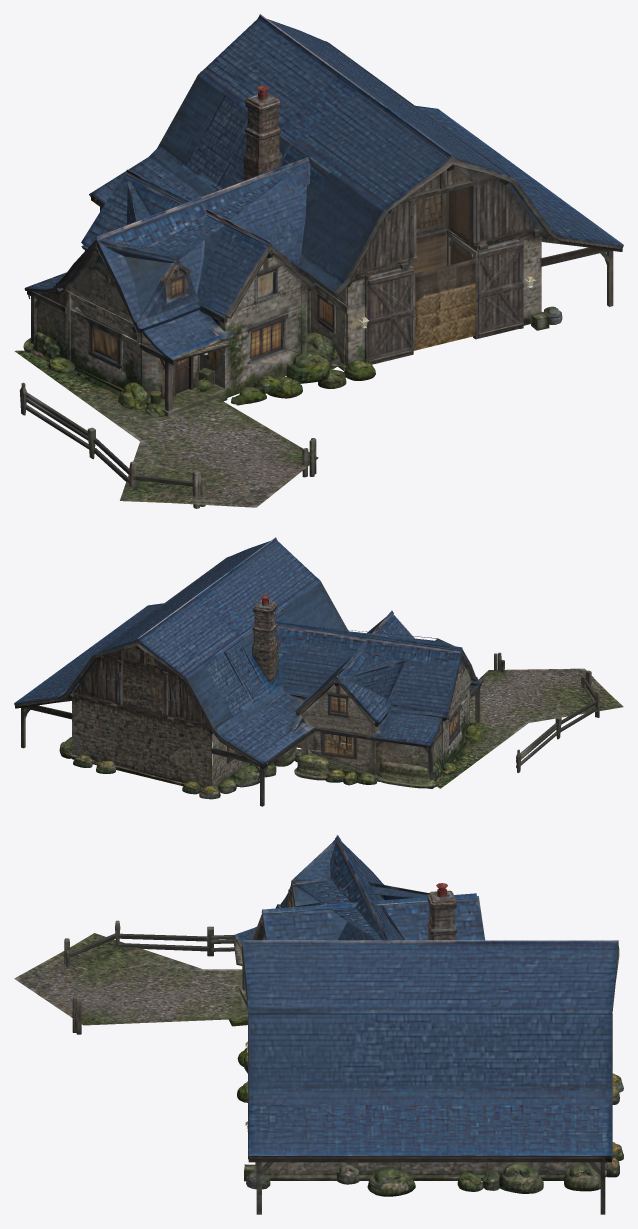
Rendered from farmstead_full_game.glb.
The picture shows the model from 3 angles, top to bottom: view 1: azimuth 30°, elevation 25°; view 2: azimuth 150°, elevation 25°; view 3: azimuth 270°, elevation 25°; orthographic projection. The views are drawn at different scales.
Visible parts, largest first — view 1: geometry_0; view 2: geometry_0; view 3: geometry_0.
Boxes of the visible parts, <box> form: geometry_0: <box>14,14,623,508</box>; geometry_0: <box>14,537,623,806</box>; geometry_0: <box>14,835,623,1214</box>.
Size of the model in its own units: 39.98 by 14.55 by 37.01.
1 material, 1 textured.
